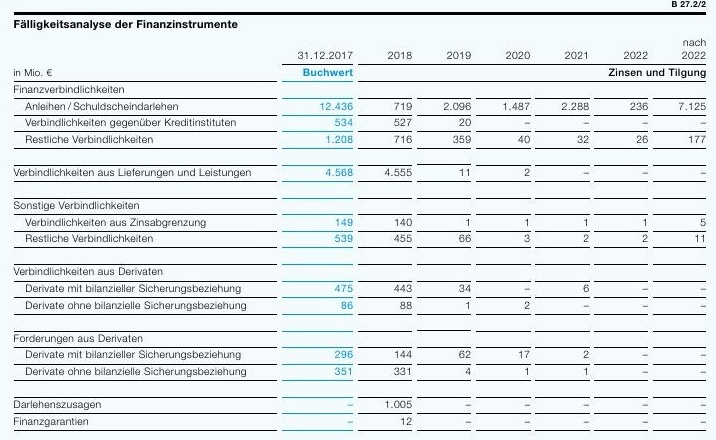table: (0, 0, 716, 440)
